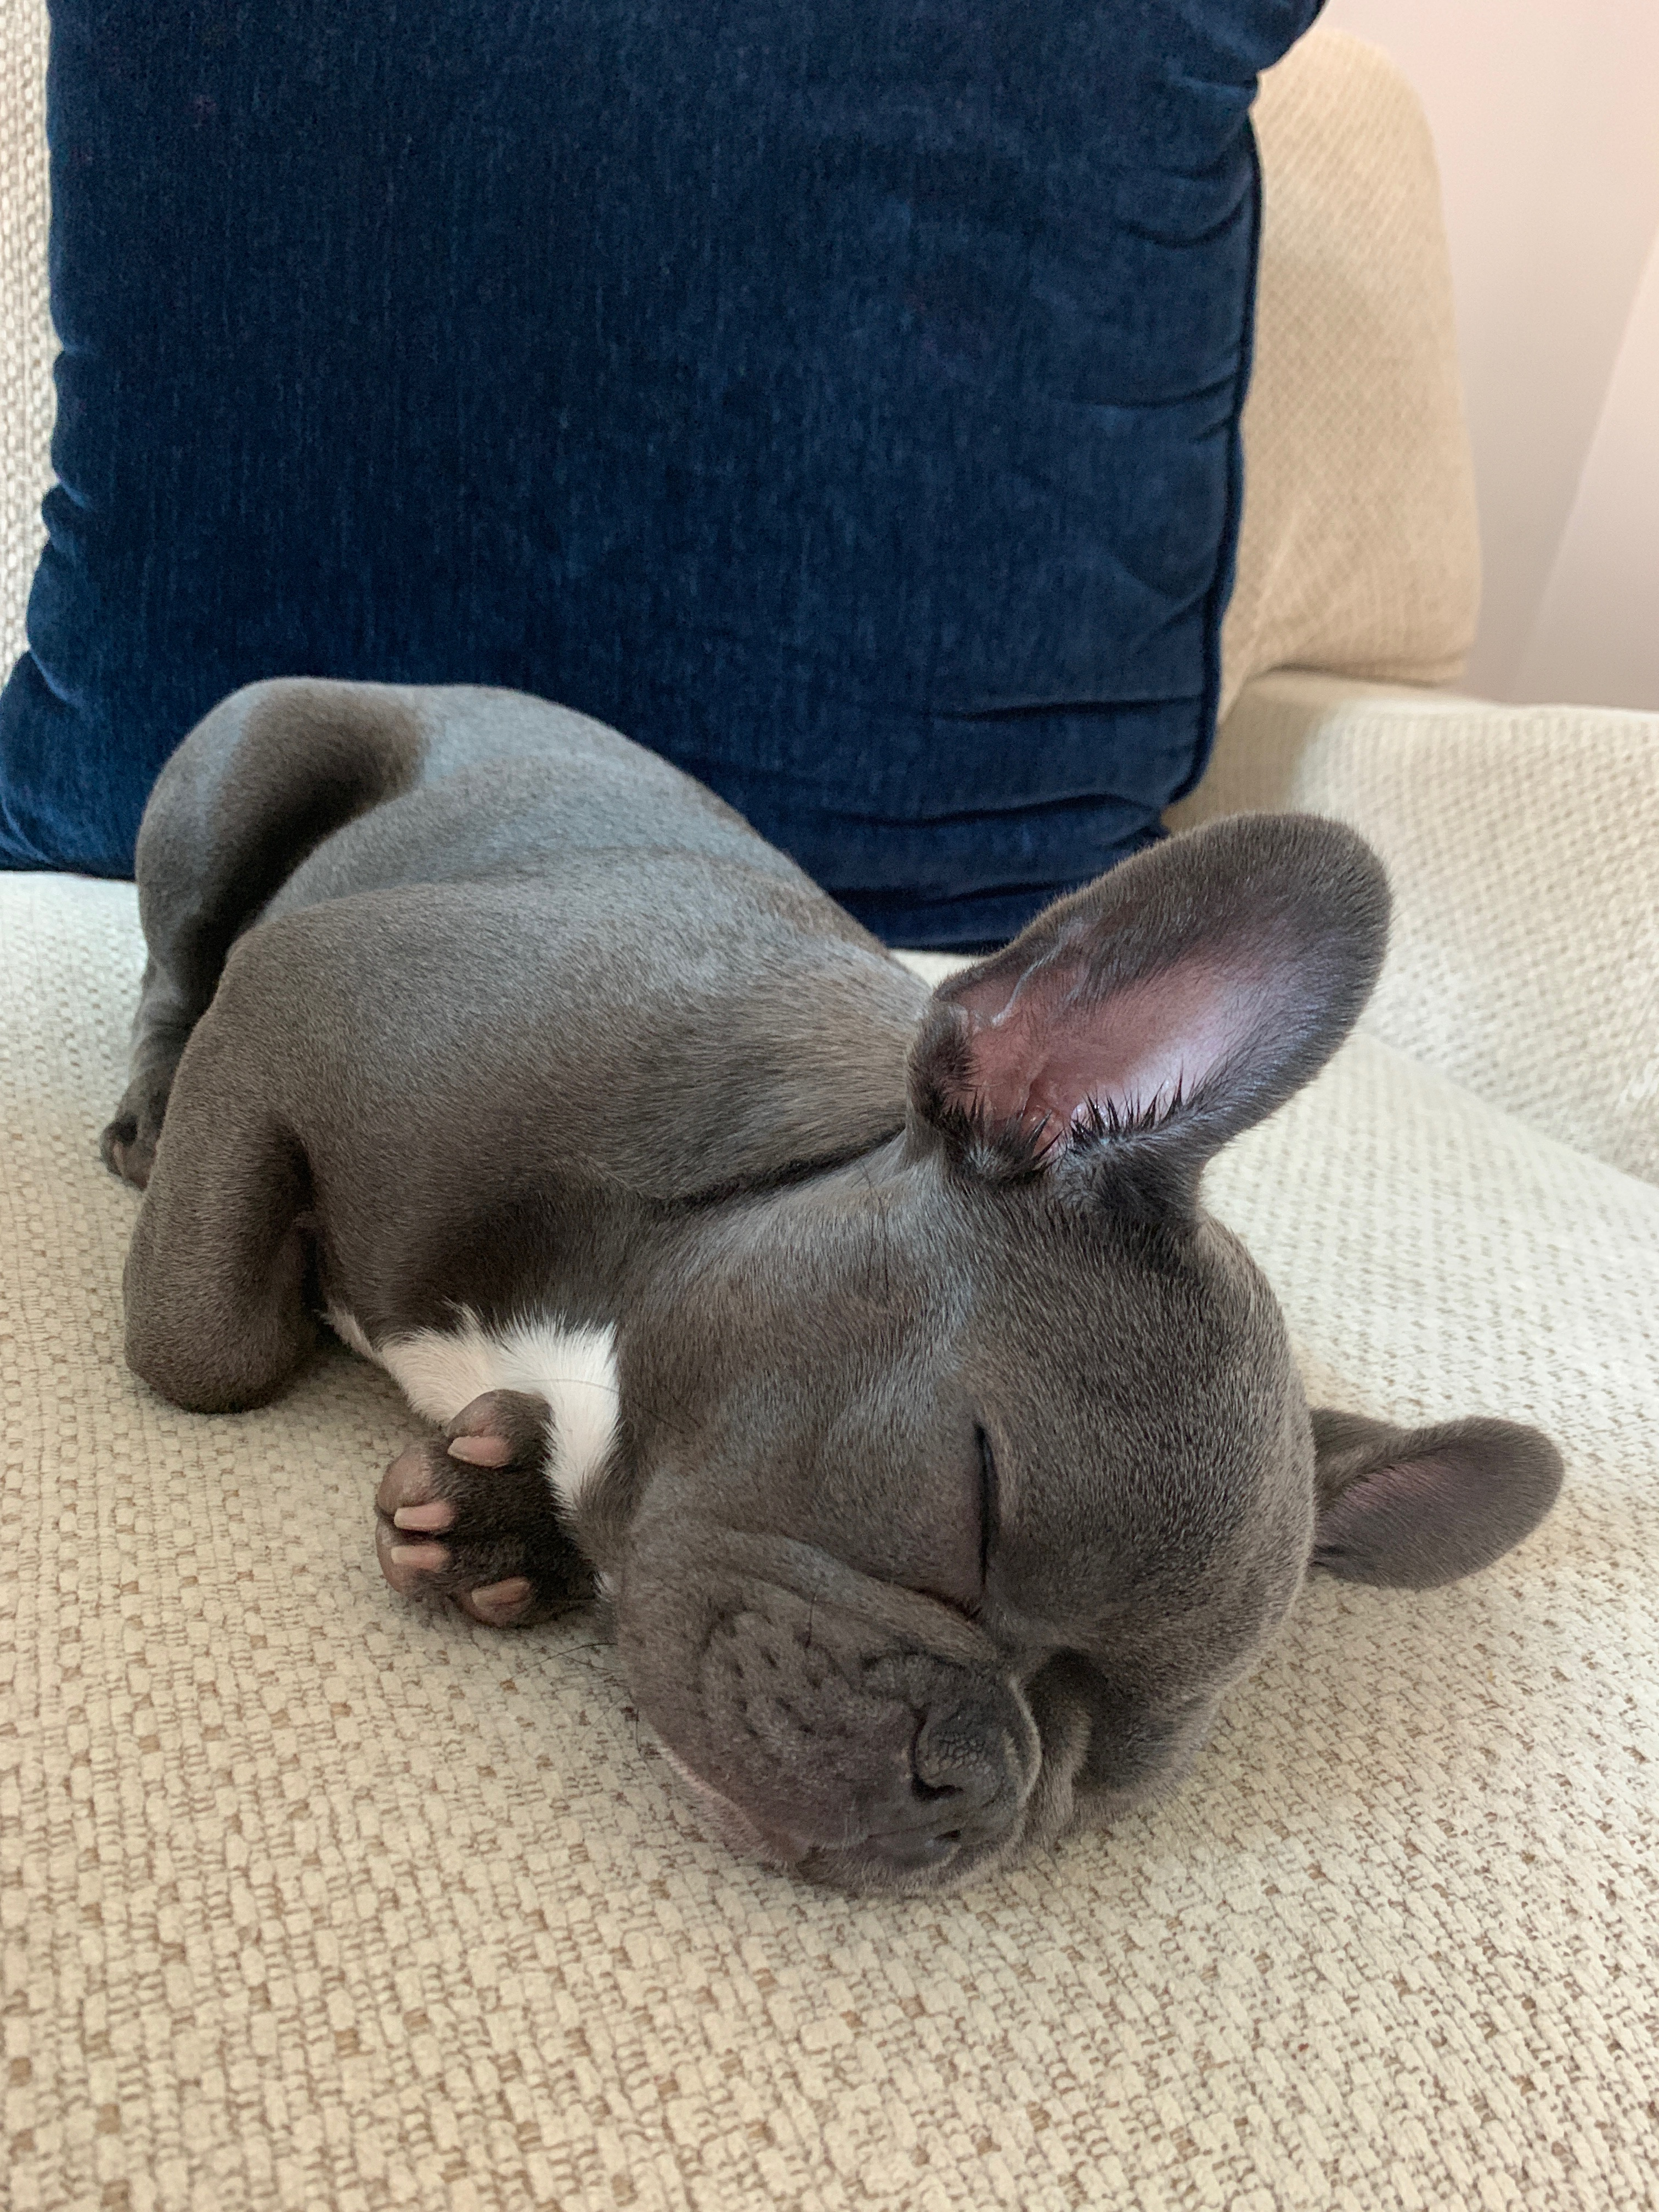lucy: (94, 672, 1574, 1911)
